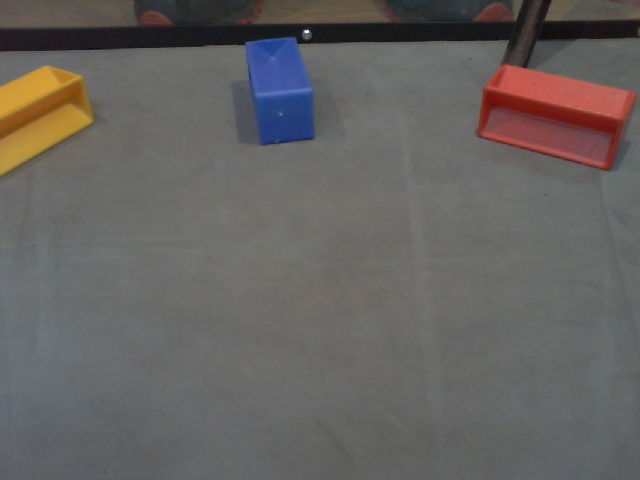BlueSample: (244, 34, 316, 151)
RedSample: (472, 59, 638, 174)
YellowSample: (1, 61, 101, 187)
